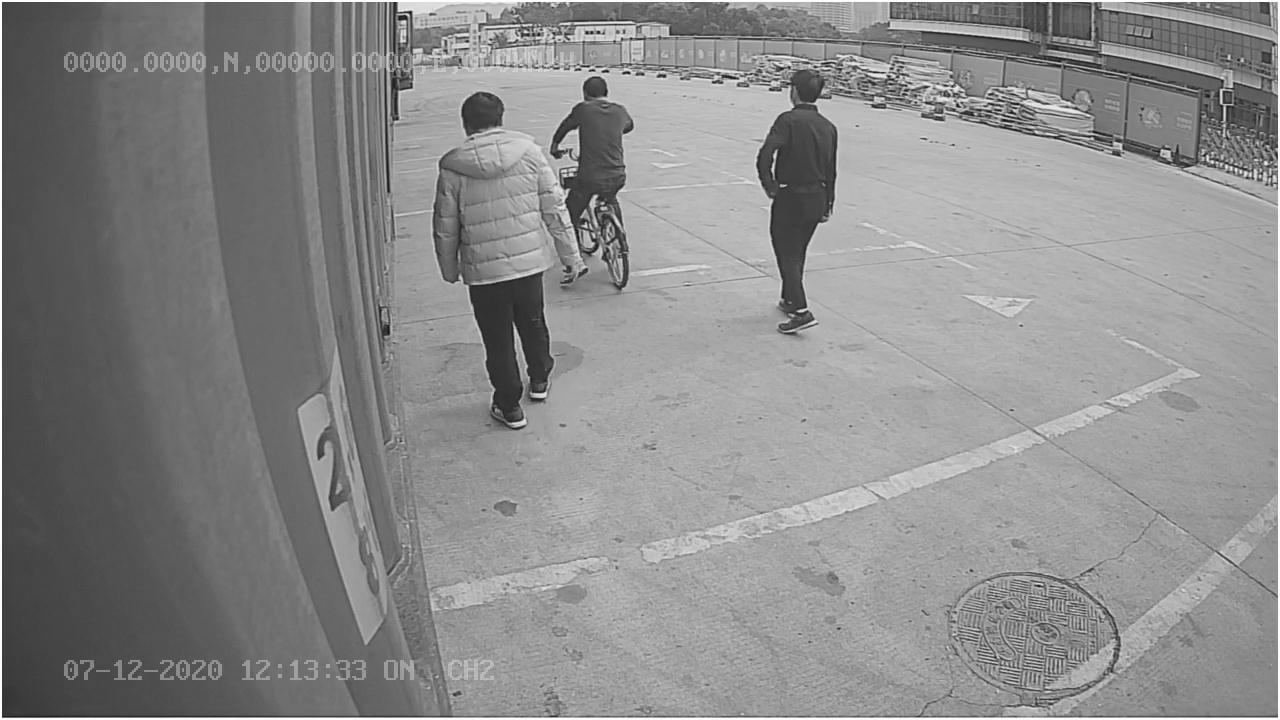person: (750, 64, 843, 333)
